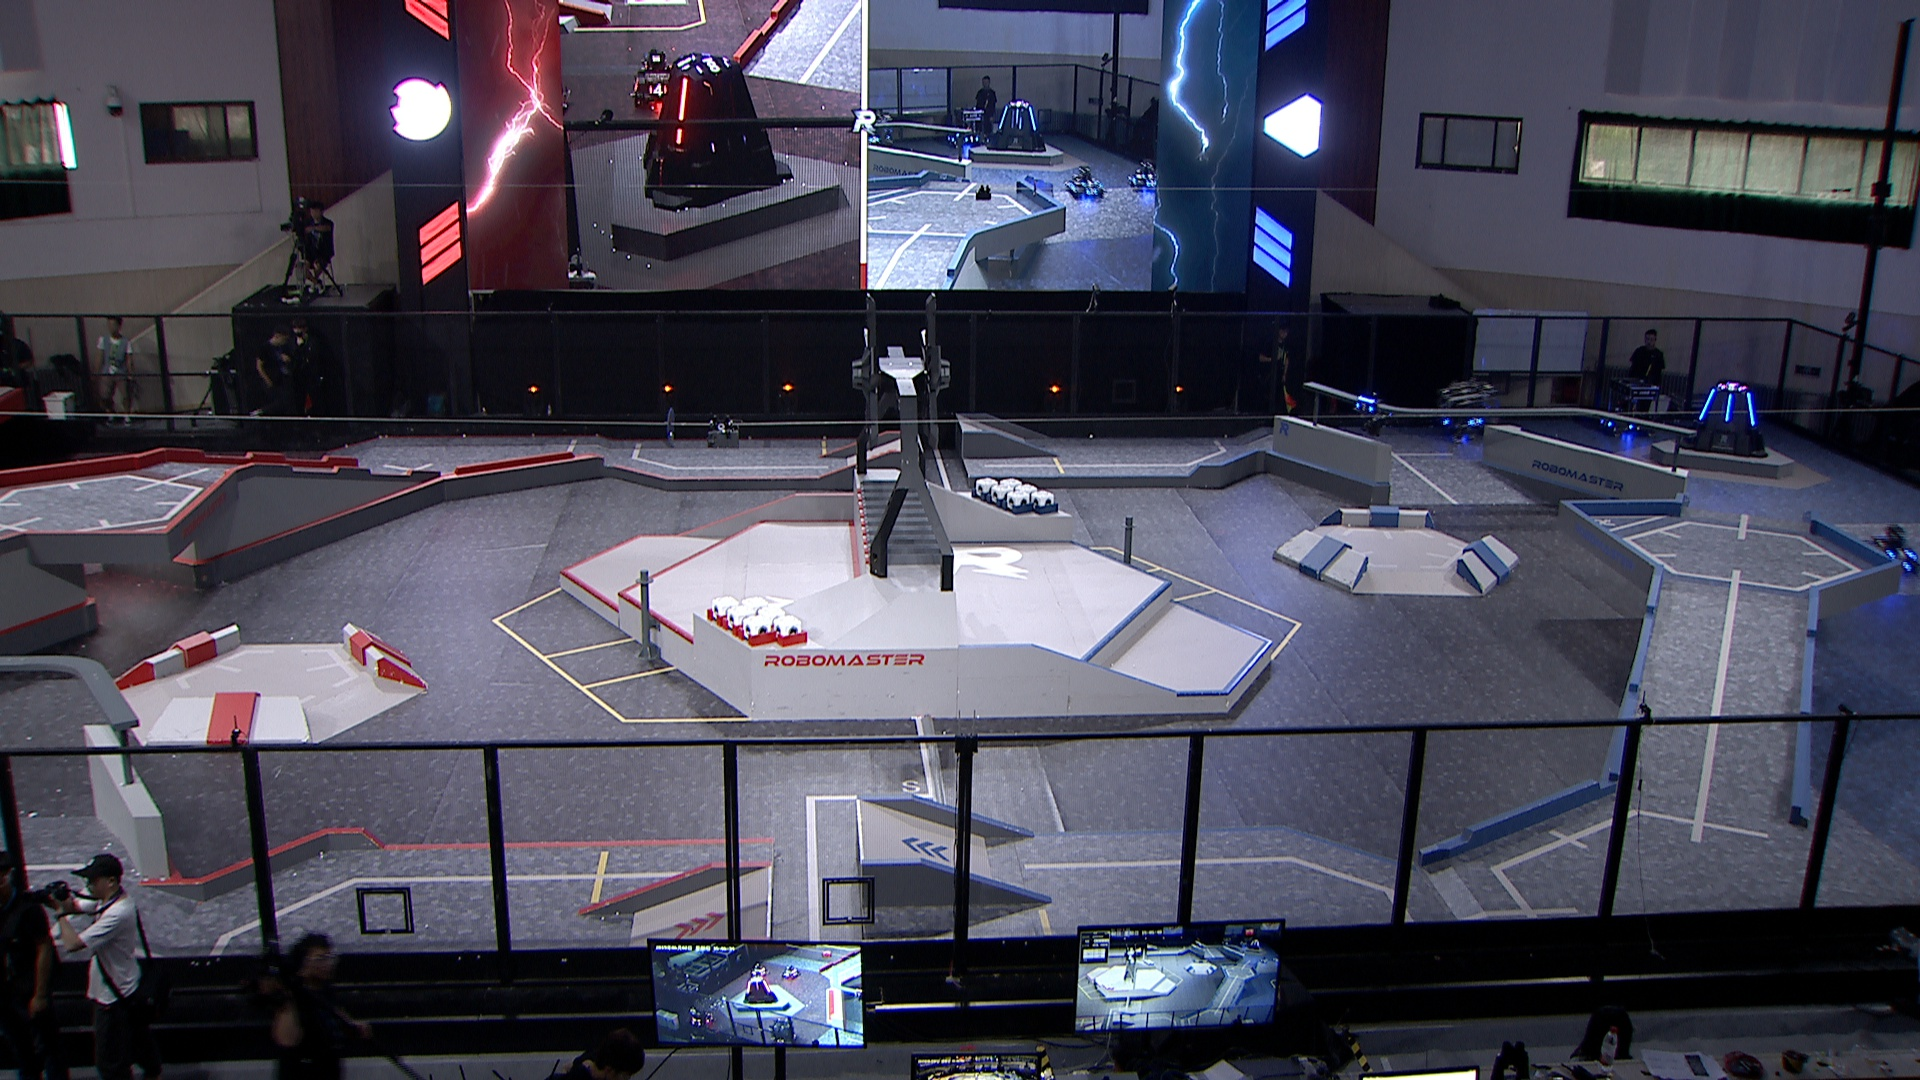armor: (1697, 386, 1718, 422), (1745, 392, 1756, 429), (1724, 392, 1735, 425), (1354, 400, 1375, 415), (1884, 547, 1912, 559), (1600, 414, 1614, 429), (1466, 418, 1482, 427), (1439, 413, 1449, 425)
car: (1593, 376, 1669, 447), (1433, 377, 1503, 447), (1865, 517, 1920, 582)
ignore: (640, 55, 795, 211), (989, 96, 1044, 154), (626, 49, 679, 100), (1064, 166, 1106, 202), (865, 117, 903, 150), (1122, 160, 1162, 189), (741, 972, 773, 1006), (945, 124, 982, 153), (771, 1017, 800, 1044), (1716, 381, 1747, 394), (749, 964, 771, 982), (684, 1007, 703, 1027), (1245, 936, 1259, 951), (782, 963, 795, 978)
watcher: (1346, 392, 1391, 433)
